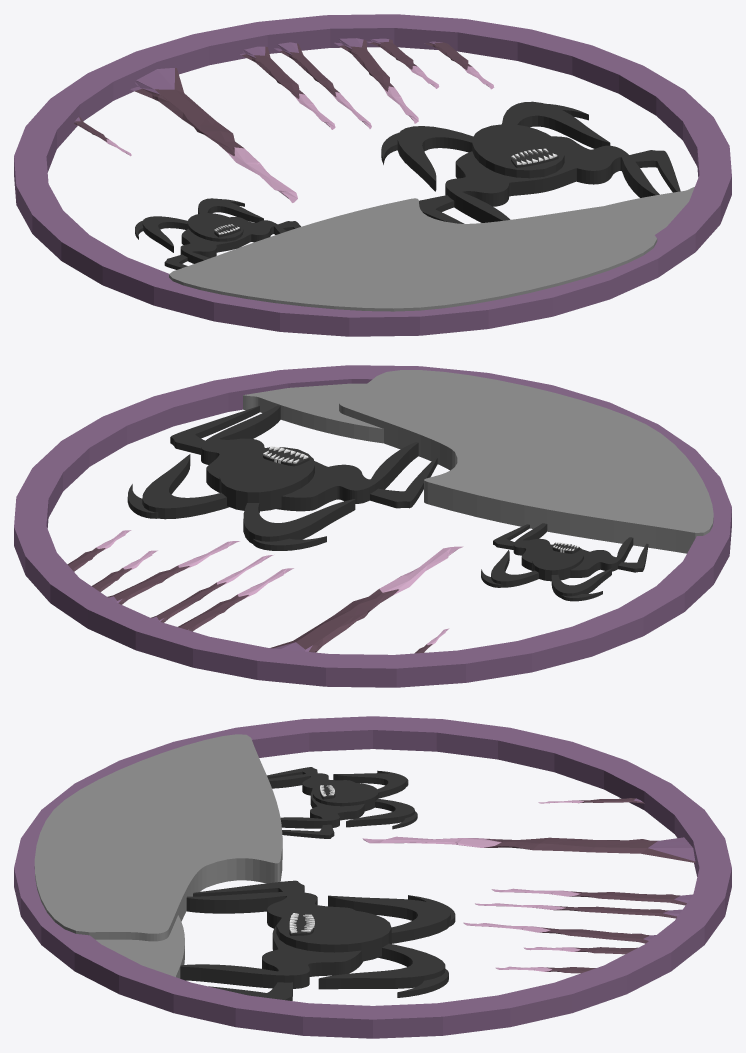
File: NestPit.fbx
The picture shows the model from 3 angles, top to bottom: view 1: azimuth 30°, elevation 25°; view 2: azimuth 150°, elevation 25°; view 3: azimuth 270°, elevation 25°; orthographic projection.
Parts seen in each view (by area): view 1: Circle, FrontGround, WumpBody, WumpFrontTent, Stick, WumpFace, WumpBody.001, BackGround, WumpFrontTent.001, WumpBackLegs, Stick.001, Stick.002 (+5 smaller); view 2: Circle, FrontGround, WumpBody, WumpFrontTent, BackGround, WumpFace, Stick, WumpBackLegs, WumpBody.001, WumpFrontTent.001, WumpFace.001, WumpBackTent (+5 smaller); view 3: Circle, FrontGround, WumpBody, WumpFrontTent, WumpFace, Stick, WumpBody.001, BackGround, WumpFrontTent.001, WumpBackLegs, Stick.002, WumpFace.001 (+4 smaller).
Part boxes in pixels (x1,y1,x2,y2): Circle: (14,14,731,336); FrontGround: (169,198,657,311); WumpBody: (445,136,659,222); WumpFrontTent: (397,101,610,191); Stick: (130,68,297,202); WumpFace: (472,124,564,178); WumpBody.001: (180,217,286,263); BackGround: (605,187,694,234); WumpFrontTent.001: (142,198,263,252); WumpBackLegs: (419,150,680,223); Stick.001: (334,38,418,123); Stick.002: (240,46,335,129); Circle: (14,365,731,687); FrontGround: (339,370,713,553); WumpBody: (201,405,418,511); WumpFrontTent: (142,454,355,543); BackGround: (243,383,383,443); WumpFace: (219,447,314,511); Stick: (271,546,463,652); WumpBackLegs: (170,405,437,508); WumpBody.001: (513,523,633,577); WumpFrontTent.001: (491,550,611,598); WumpFace.001: (532,544,583,581); WumpBackTent: (127,484,326,550); Circle: (14,716,731,1038); FrontGround: (34,734,282,941); WumpBody: (180,892,362,988); WumpFrontTent: (318,895,450,989); WumpFace: (276,909,391,961); Stick: (362,836,695,862); WumpBody.001: (268,773,364,828); BackGround: (95,915,184,978); WumpFrontTent.001: (333,773,414,827); WumpBackLegs: (193,880,304,1000); Stick.002: (491,888,693,905); WumpFace.001: (313,782,378,811).
Size of the model in its own units: 480 by 18.45 by 480.
